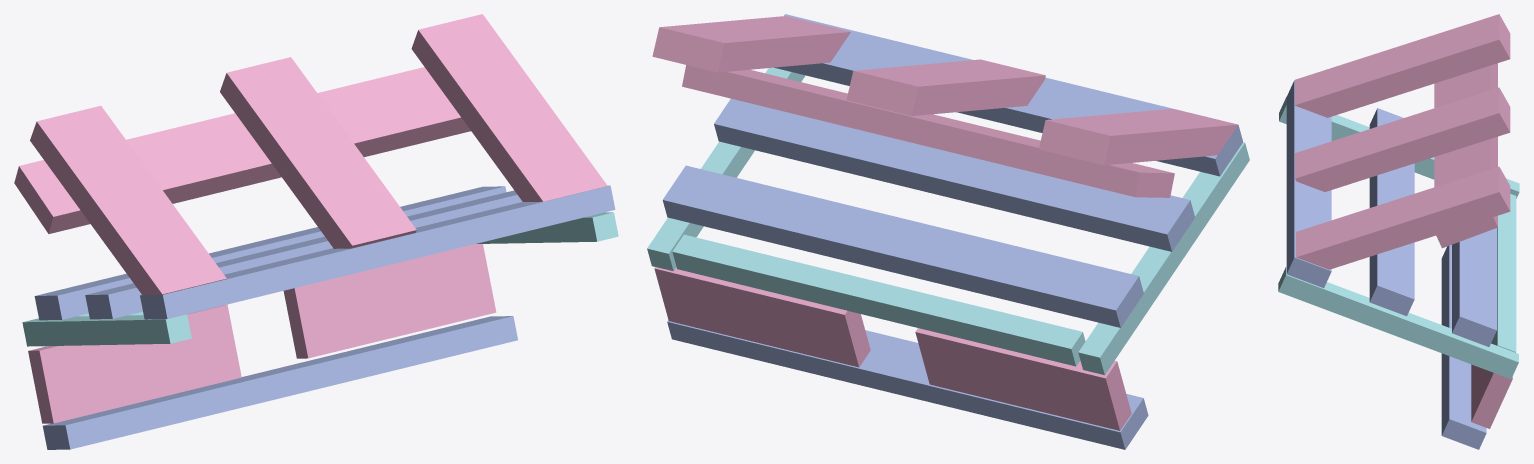
File: tinker.obj
The picture shows the model from 3 angles, left to right: view 1: azimuth 30°, elevation 25°; view 2: azimuth 150°, elevation 25°; view 3: azimuth 270°, elevation 25°; orthographic projection. The views are drawn at different scales.
Visible parts, largest first — view 1: group_0_15708628, group_0_11452141, group_0_11593967; view 2: group_0_11452141, group_0_15708628, group_0_11593967; view 3: group_0_15708628, group_0_11452141, group_0_11593967.
Part boxes in pixels (bbox=[...]): group_0_15708628: bbox=[14, 14, 607, 423]; group_0_11452141: bbox=[34, 185, 615, 449]; group_0_11593967: bbox=[22, 212, 618, 346]; group_0_11452141: bbox=[662, 14, 1242, 449]; group_0_15708628: bbox=[652, 16, 1237, 430]; group_0_11593967: bbox=[647, 67, 1249, 375]; group_0_15708628: bbox=[1295, 14, 1512, 428]; group_0_11452141: bbox=[1286, 80, 1496, 449]; group_0_11593967: bbox=[1278, 96, 1519, 378].
Bounding box in the file's own units: 263 × 171 × 144.
